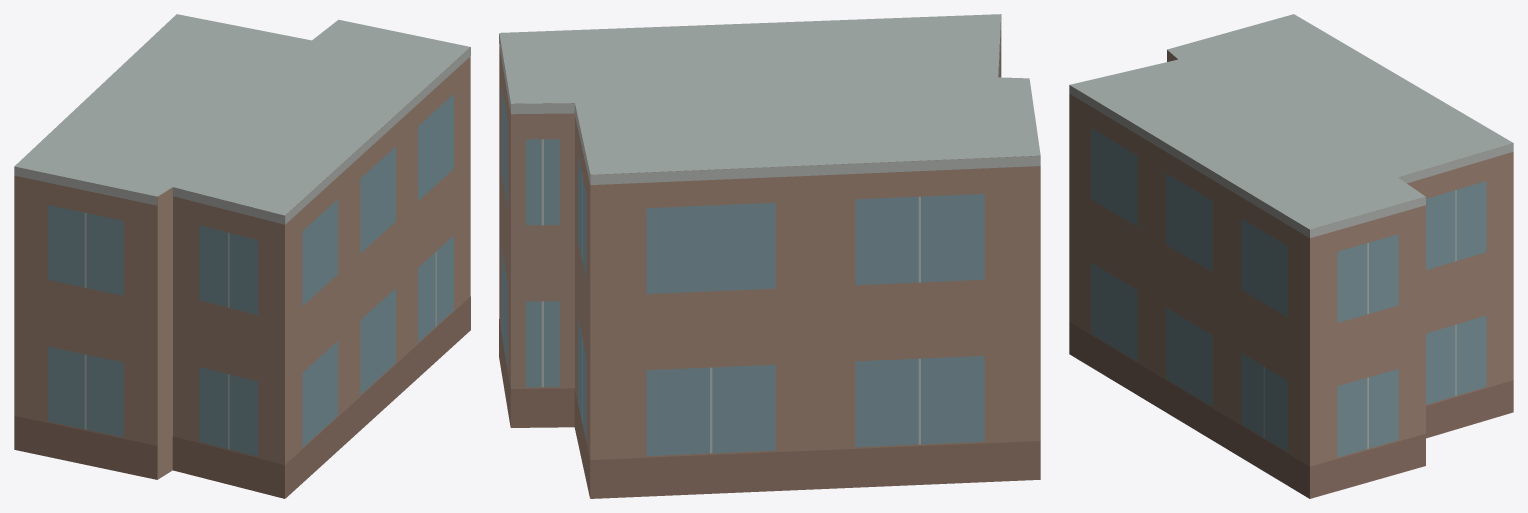
The model's file is survey-upis-33037241.glb.
The picture shows the model from 3 angles, left to right: view 1: azimuth 30°, elevation 25°; view 2: azimuth 150°, elevation 25°; view 3: azimuth 270°, elevation 25°; orthographic projection. The views are drawn at different scales.
Parts seen in each view (by area): view 1: survey-upis-33037241.tmp; view 2: survey-upis-33037241.tmp; view 3: survey-upis-33037241.tmp.
Boxes of the visible parts, bbox=[...] form: survey-upis-33037241.tmp: bbox=[14, 14, 470, 498]; survey-upis-33037241.tmp: bbox=[499, 14, 1040, 498]; survey-upis-33037241.tmp: bbox=[1069, 14, 1513, 498].
Bounding box in the file's own units: 13.06 × 7.6 × 11.38.
